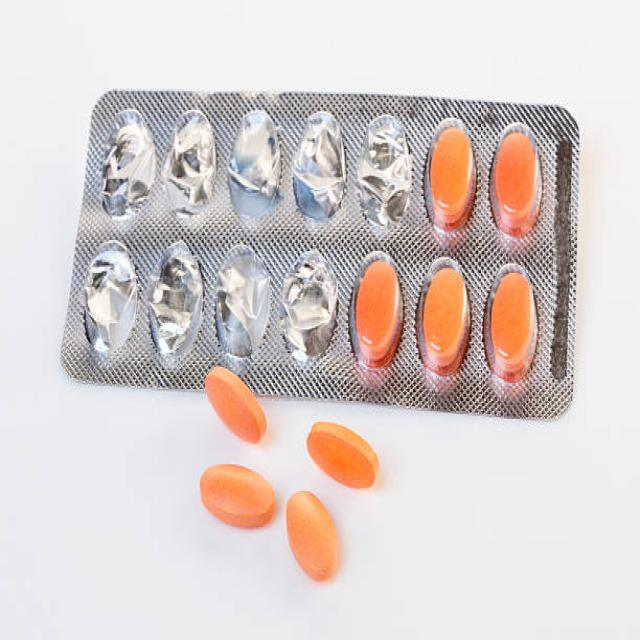Empty: (279, 100, 348, 230), (80, 231, 142, 374), (210, 244, 276, 365), (278, 241, 338, 372), (167, 97, 220, 232), (225, 94, 276, 234), (354, 110, 410, 237), (99, 104, 157, 224), (147, 238, 200, 368)
Pill: (488, 107, 548, 258), (416, 241, 470, 401), (480, 254, 534, 396), (346, 240, 396, 382), (416, 110, 469, 242)
